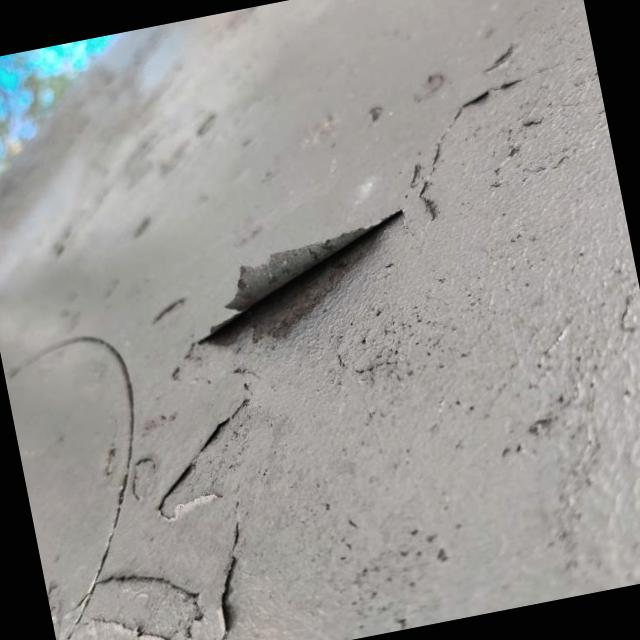paint-off: (147, 178, 456, 402)
